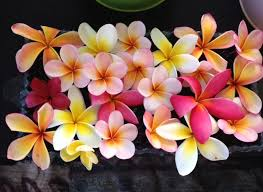frangipani: (97, 112, 138, 161)
